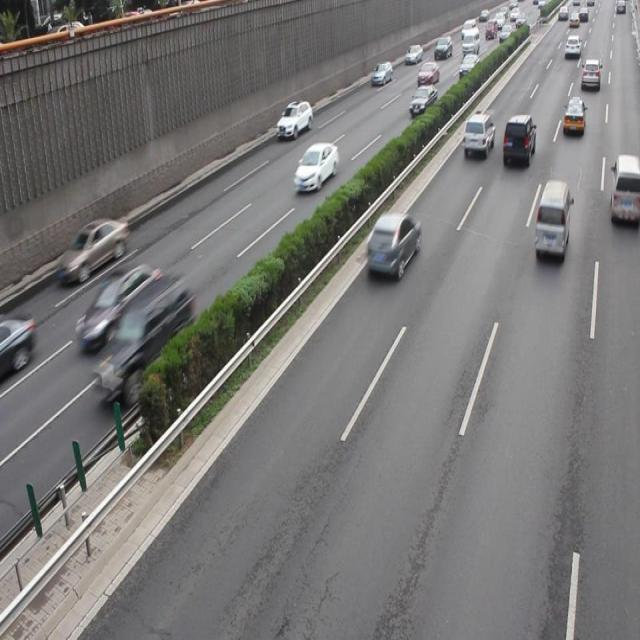car: (90, 274, 194, 402), (76, 262, 160, 352), (58, 216, 128, 284), (364, 210, 420, 277), (293, 140, 338, 192), (501, 115, 534, 167), (461, 112, 494, 158), (277, 100, 312, 138), (561, 97, 584, 138), (407, 85, 436, 116)
truck: (533, 179, 568, 255), (610, 154, 640, 225)
